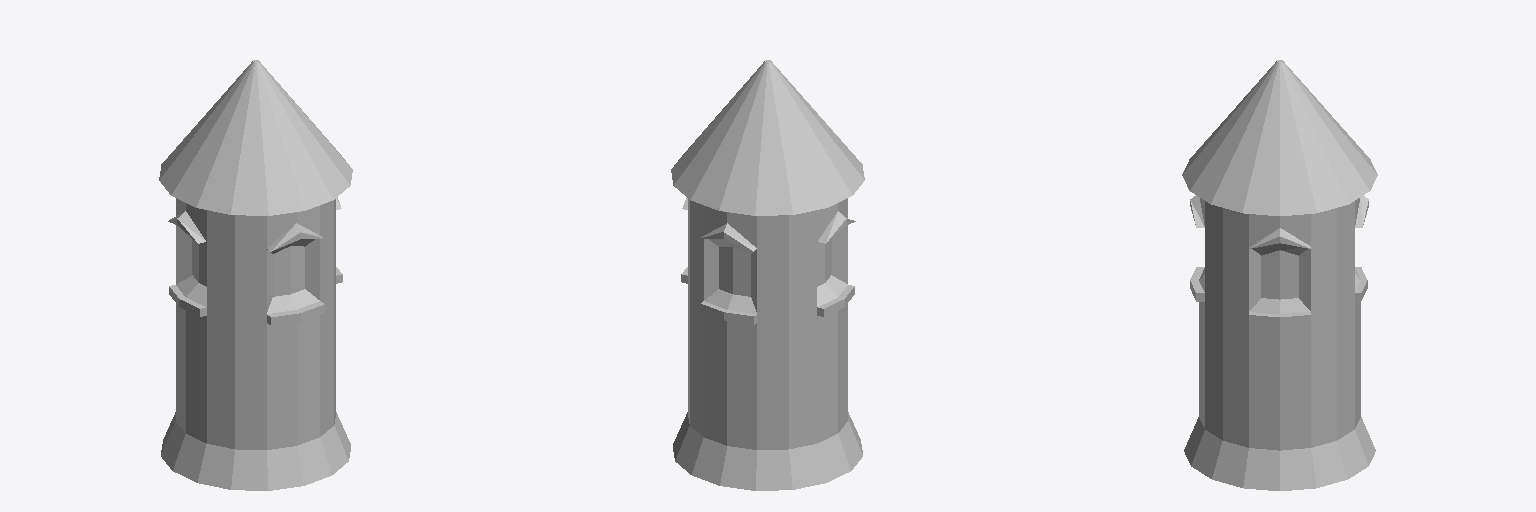
Rendered from CastleTurret.obj.
3 renders of one model, left to right at view 1: azimuth 30°, elevation 25°; view 2: azimuth 150°, elevation 25°; view 3: azimuth 270°, elevation 25°, orthographic.
Visible parts, largest first — view 1: Cylinder; view 2: Cylinder; view 3: Cylinder.
Part boxes in pixels (left/top/right/bottom): Cylinder: left=159, top=60, right=352, bottom=490; Cylinder: left=671, top=60, right=864, bottom=490; Cylinder: left=1182, top=60, right=1377, bottom=490.
Size of the model in its own units: 9.65 by 21.2 by 9.65.